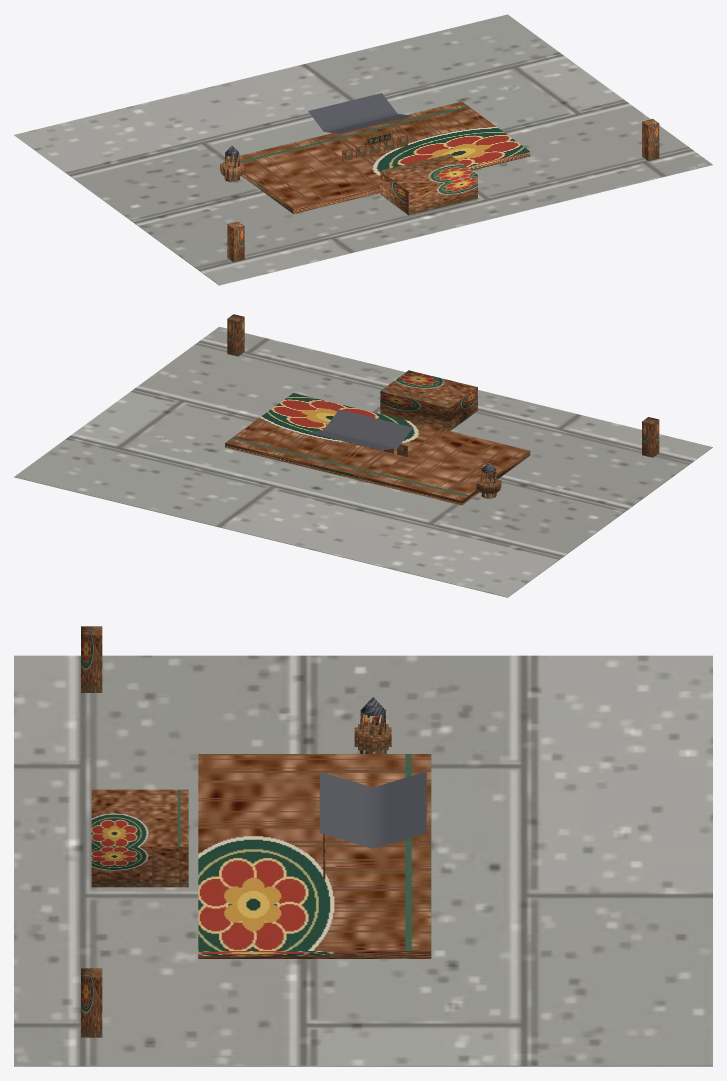
3 views of the same model, one above another, from view 1: azimuth 30°, elevation 25°; view 2: azimuth 150°, elevation 25°; view 3: azimuth 270°, elevation 25° (orthographic). The views are drawn at different scales.
Parts seen in each view (by area): view 1: 11680_01_06378_048_01_L2__base, 11680_01_06378_048_02_L2__body, 11680_01_06378_048_03_L2__roof, 11680_01_06378_048_06_L2__green, 11680_01_06378_048_05_L2__openings; view 2: 11680_01_06378_048_01_L2__base, 11680_01_06378_048_02_L2__body, 11680_01_06378_048_03_L2__roof, 11680_01_06378_048_06_L2__green; view 3: 11680_01_06378_048_01_L2__base, 11680_01_06378_048_02_L2__body, 11680_01_06378_048_03_L2__roof, 11680_01_06378_048_06_L2__green.
Boxes of the visible parts, box(x1,y1,x2,y2) form: 11680_01_06378_048_01_L2__base: box(14, 14, 712, 285); 11680_01_06378_048_02_L2__body: box(220, 101, 530, 215); 11680_01_06378_048_03_L2__roof: box(225, 93, 412, 156); 11680_01_06378_048_06_L2__green: box(227, 119, 659, 262); 11680_01_06378_048_05_L2__openings: box(342, 134, 407, 161); 11680_01_06378_048_01_L2__base: box(14, 326, 712, 597); 11680_01_06378_048_02_L2__body: box(225, 370, 530, 505); 11680_01_06378_048_03_L2__roof: box(308, 409, 496, 472); 11680_01_06378_048_06_L2__green: box(227, 314, 659, 457); 11680_01_06378_048_01_L2__base: box(14, 655, 712, 1066); 11680_01_06378_048_02_L2__body: box(91, 711, 431, 958); 11680_01_06378_048_03_L2__roof: box(319, 697, 426, 848); 11680_01_06378_048_06_L2__green: box(81, 626, 102, 1037).
Size of the model in its own units: 100 by 6.9 by 72.
Materials: 5 (5 with a texture image).
